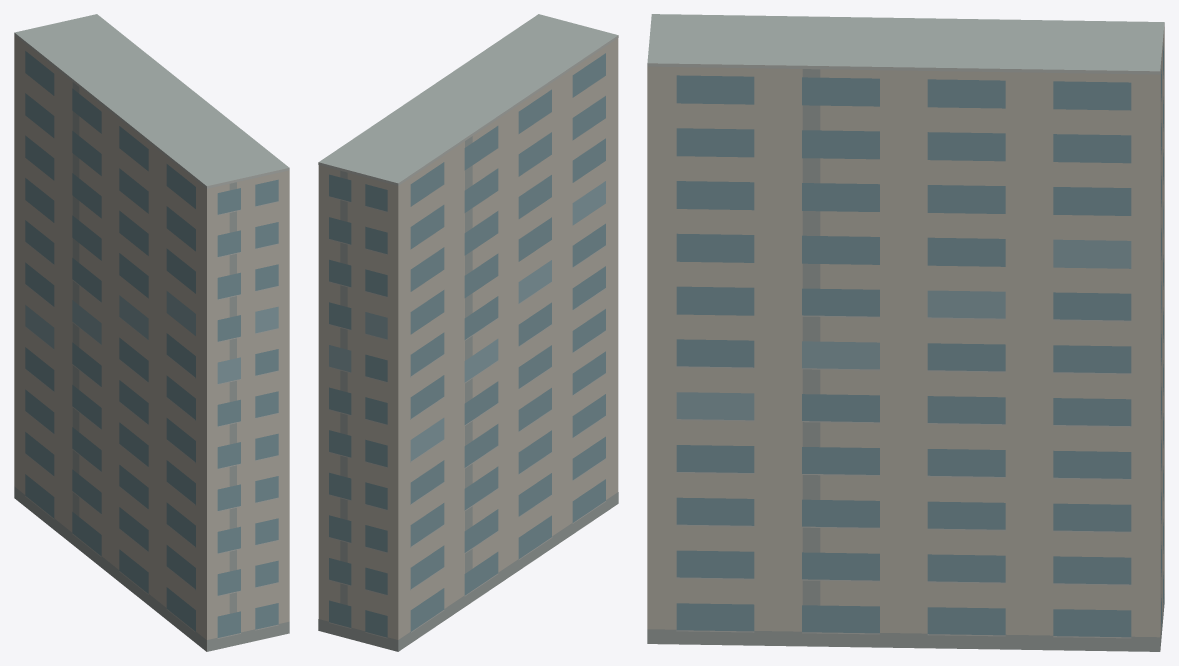
Rendered from residential-99abdf27-b5fe-4a11-b49a-ac1a9a02909d.glb.
3 renders of one model, left to right at view 1: azimuth 30°, elevation 25°; view 2: azimuth 150°, elevation 25°; view 3: azimuth 270°, elevation 25°, orthographic. The views are drawn at different scales.
Parts seen in each view (by area): view 1: residential-99abdf27-b5fe-4a11-b49a-ac1a9a02909d.tmp; view 2: residential-99abdf27-b5fe-4a11-b49a-ac1a9a02909d.tmp; view 3: residential-99abdf27-b5fe-4a11-b49a-ac1a9a02909d.tmp.
Boxes of the visible parts, left/top/right/bottom form: residential-99abdf27-b5fe-4a11-b49a-ac1a9a02909d.tmp: left=14, top=14, right=289, bottom=651; residential-99abdf27-b5fe-4a11-b49a-ac1a9a02909d.tmp: left=318, top=14, right=618, bottom=651; residential-99abdf27-b5fe-4a11-b49a-ac1a9a02909d.tmp: left=647, top=14, right=1164, bottom=651.
Bounding box in the file's own units: 9.11 × 43 × 34.72.
